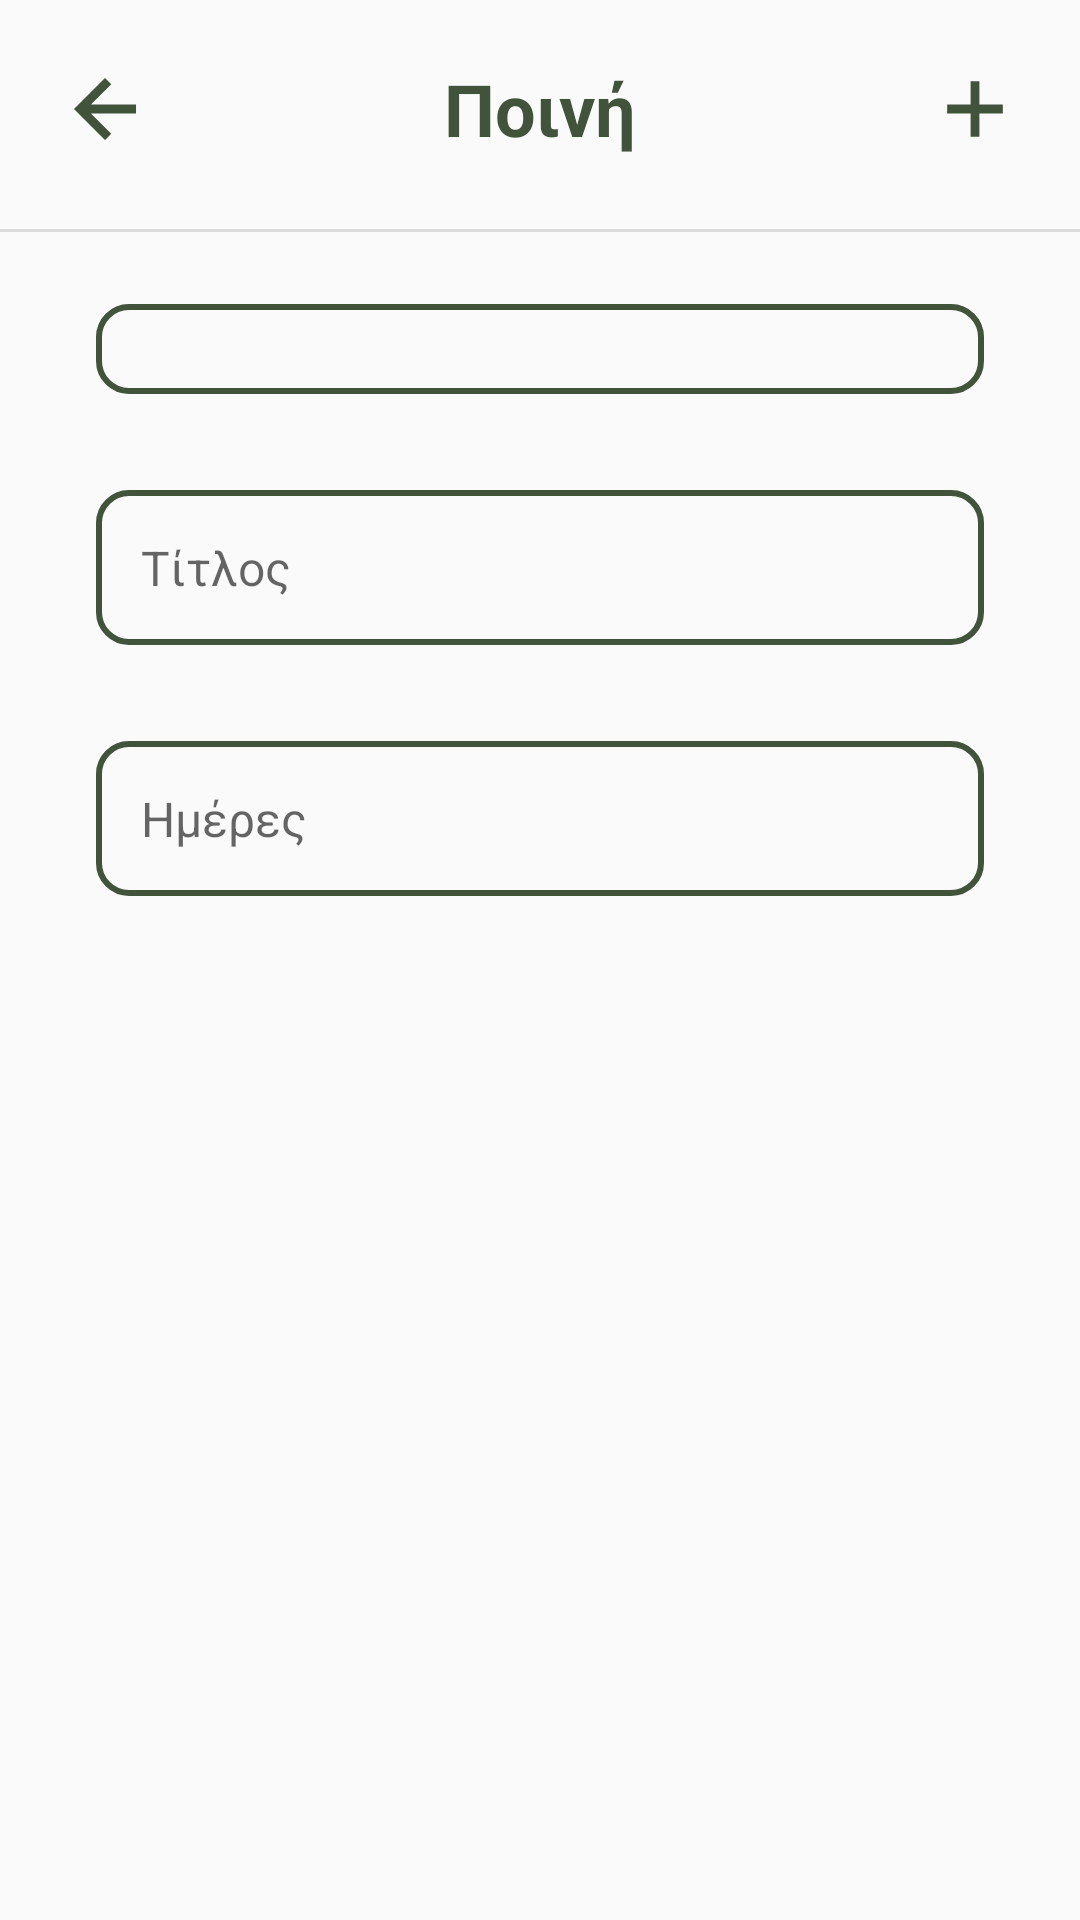

Icon bounding boxes for this 1080 x 1920 phone screenshot, format bbox(x1, y1, x2, y2):
add: bbox(947, 81, 1003, 137)
arrow back: bbox(74, 78, 136, 140)
